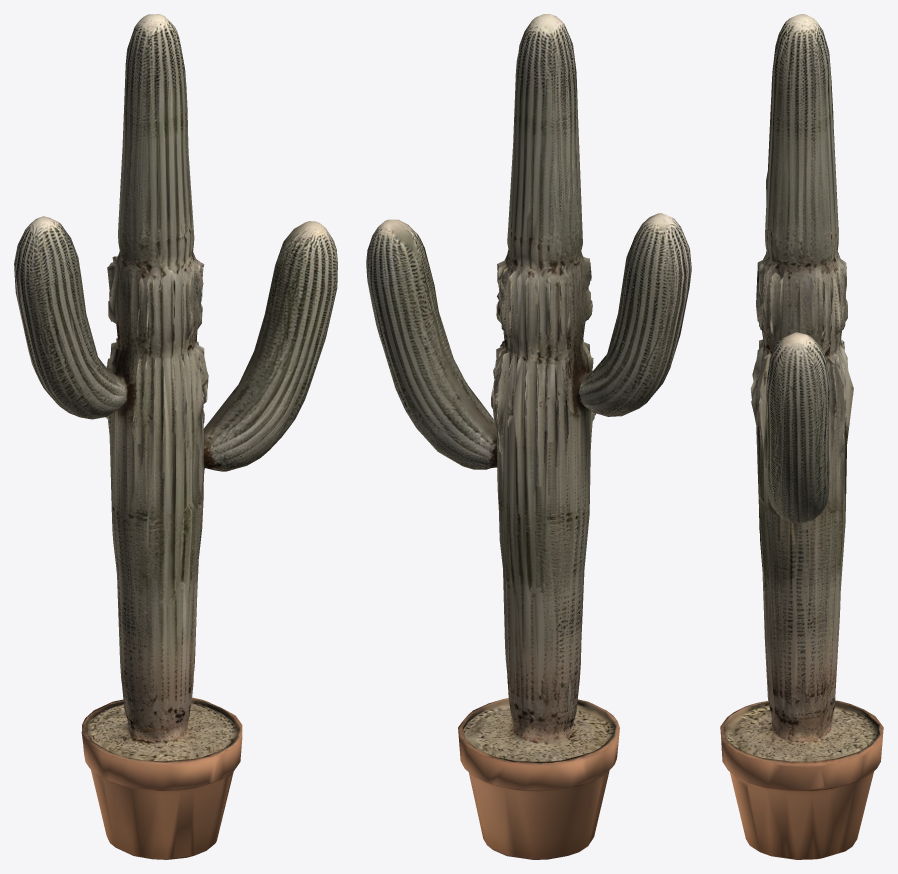
Rendered from saguaro.glb.
3 views of the same model, side by side, from view 1: azimuth 30°, elevation 25°; view 2: azimuth 150°, elevation 25°; view 3: azimuth 270°, elevation 25° (orthographic).
Parts seen in each view (by area): view 1: node_0; view 2: node_0; view 3: node_0.
Boxes of the visible parts, x1,y1,x2,y2 form: node_0: (14,14,337,859); node_0: (366,14,691,859); node_0: (720,14,883,859).
Bounding box in the file's own units: 0.4761 × 1.19 × 0.2146.
1 material, 1 textured.
